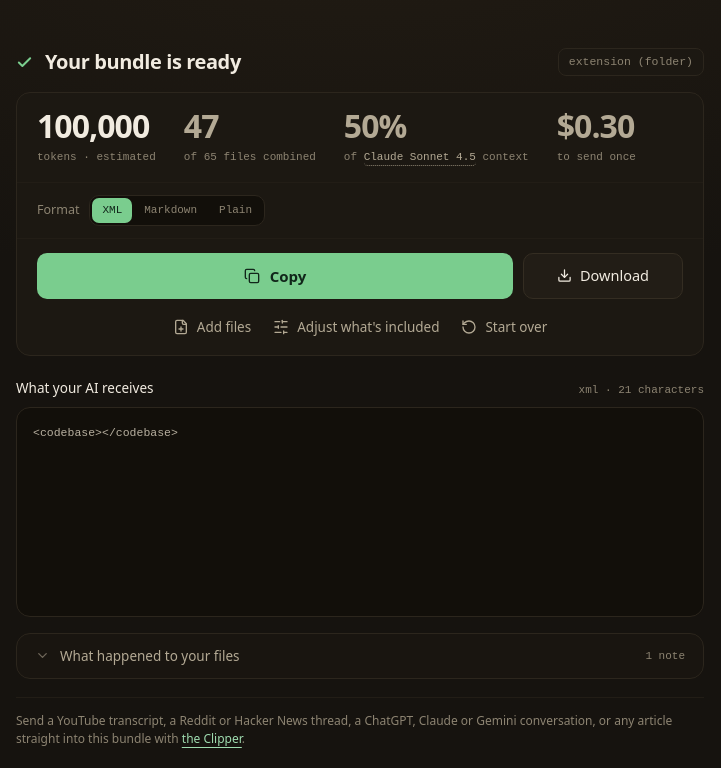
Scenario: the door on the ledger › names the folders and files that were never opened, with the remedy
Click the button "What happened to your files 1 note" at (150, 656), box [17,634,703,678]
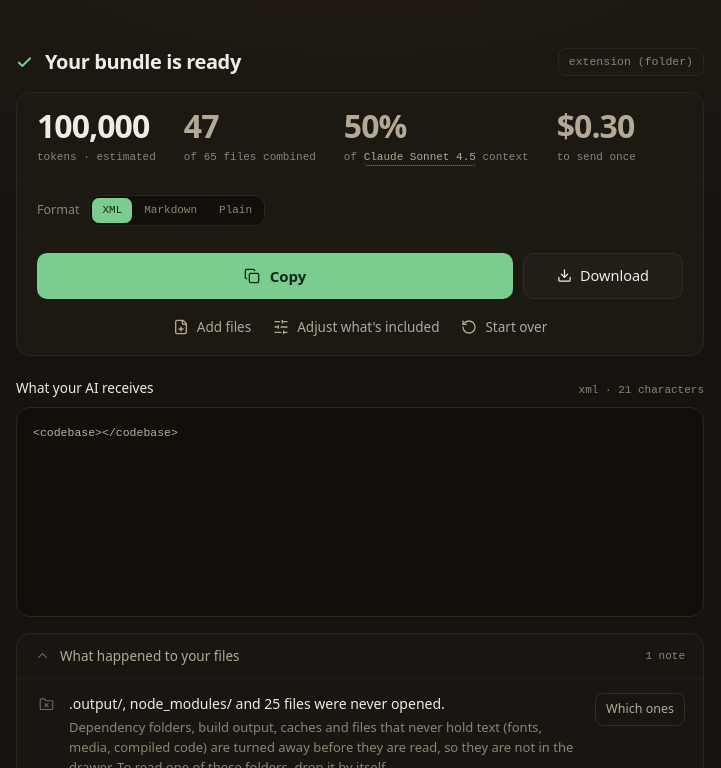
Now the text ".output/, node_modules/ and 25 files were never opened." is shown, box [69,694,445,713]
Click the button "Which ones" at (640, 709), box [595,693,685,726]
(page scrolled)
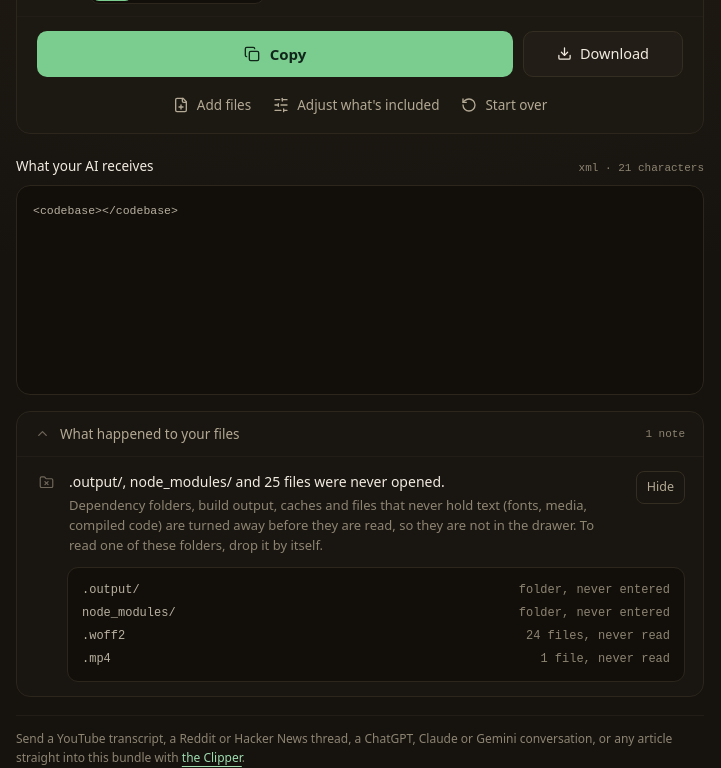
Now the text ".output/" is shown, box [82,583,140,597]
Now the text ".woff2" is shown, box [82,629,125,643]
Now the text "24 files, never read" is shown, box [526,628,670,644]
